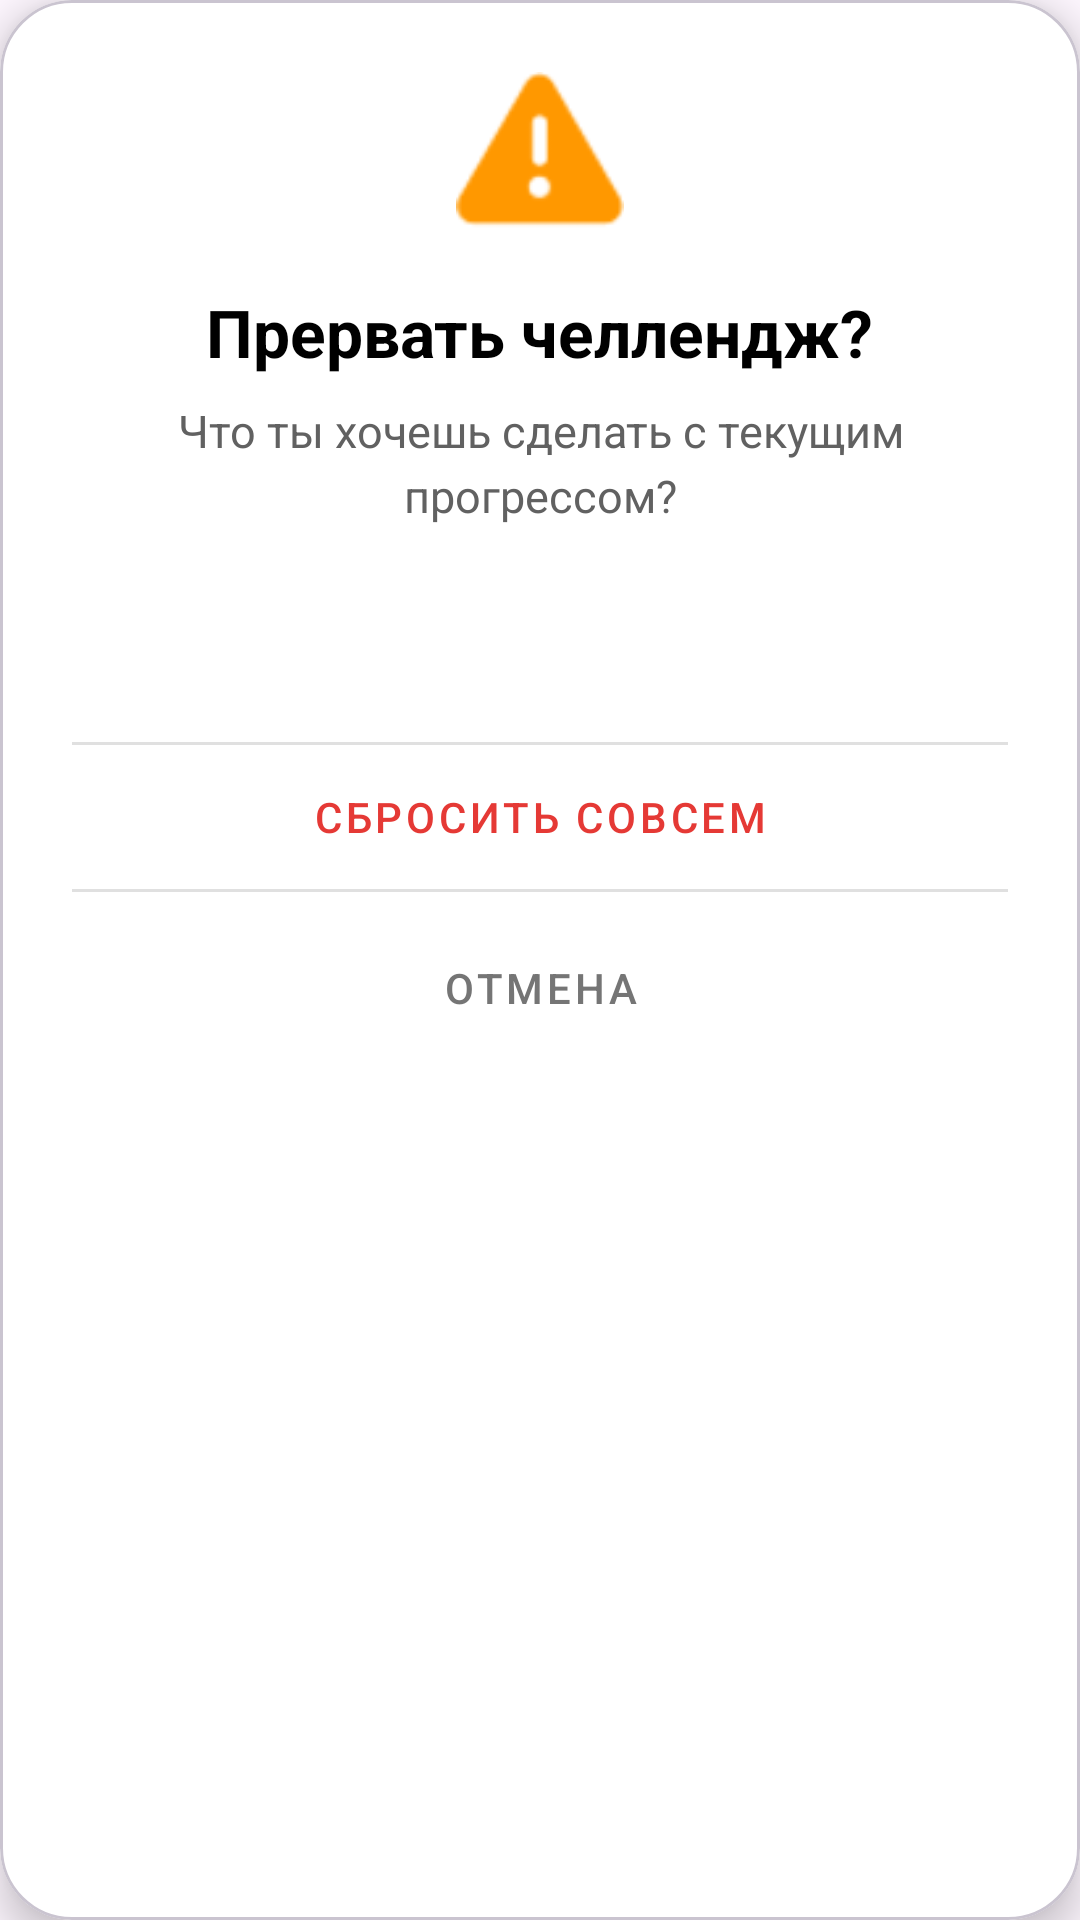

Icons on this 1080×1920 Android screen, each with its box as (x1, y1, x2, y2):
alert: (456, 72, 624, 225)
